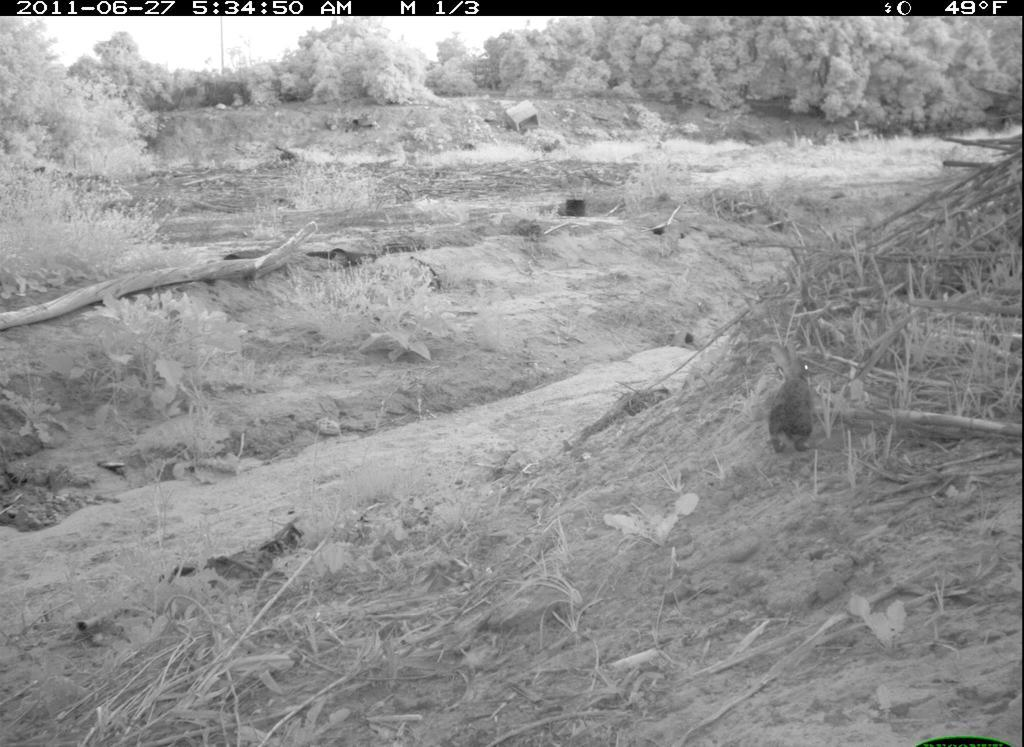rabbit: (763, 335, 824, 463)
